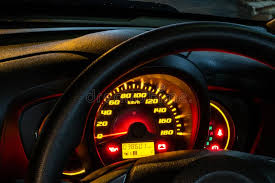Digital_Meter: (121, 142, 155, 156)
